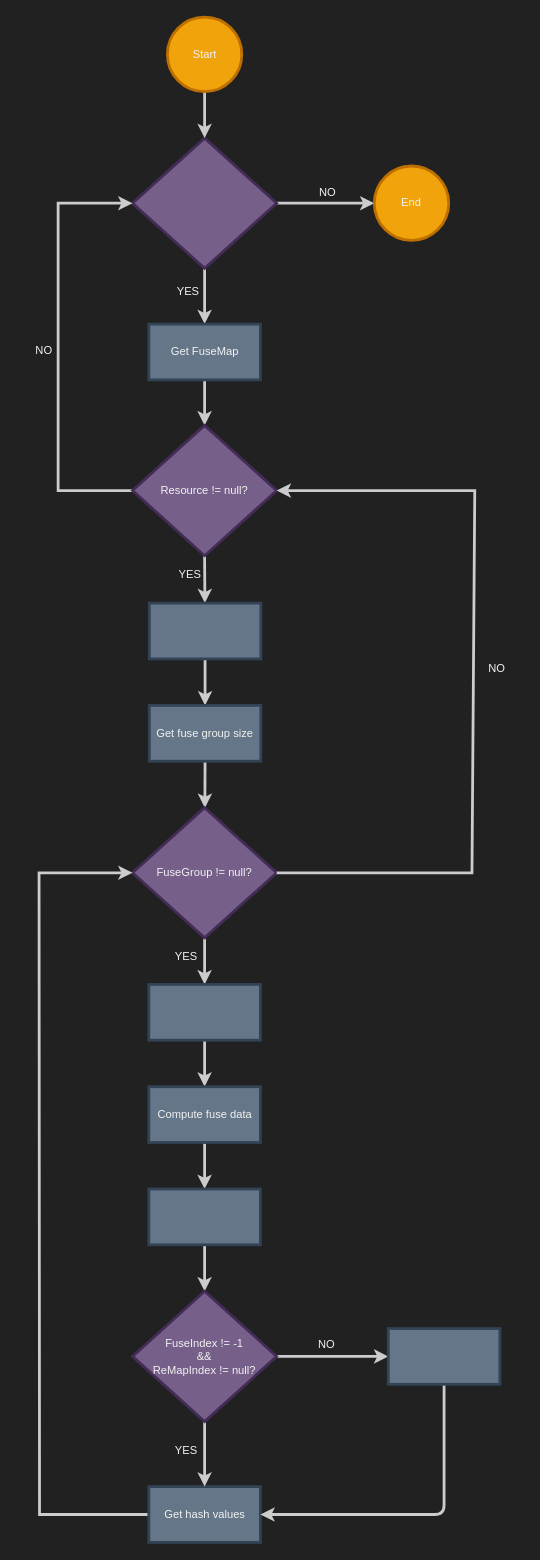
This 540x1560 diagram has some shape labels left out. Here are the shapes that lost their labels. From the top down, the centre of each, then its label:
At pixel 204 202: "StaticOutput != null?".
At pixel 204 630: "Get repair solution".
At pixel 204 1012: "Get value per defect variable".
At pixel 204 1216: "Compute fuse index".
At pixel 443 1356: "ReMap index".
